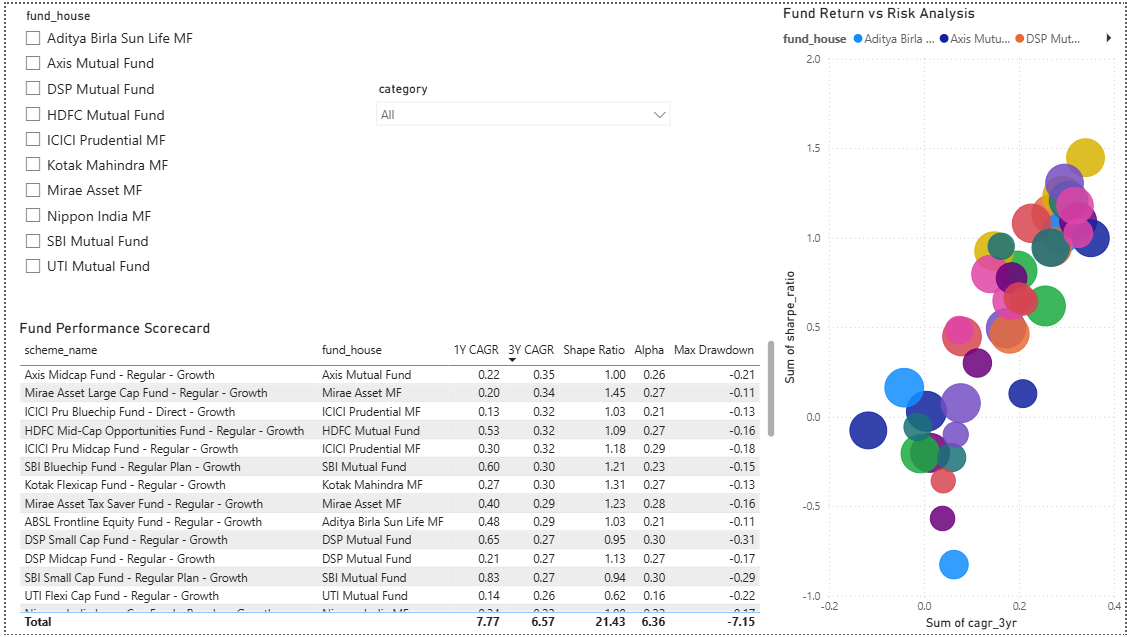

The dashboard page shown, as its layout file describes it:
{"tool":"powerbi","page":{"name":"Page 2","canvas":[1280,720],"ordinal":1},"visuals":[{"type":"scatterChart","title":"Fund Return vs Risk Analysis","fields":{"X":["Sum(fund_scorecard.cagr_3yr)"],"Y":["Sum(fund_scorecard.sharpe_ratio)"],"Size":["Sum(fund_scorecard.expense_ratio_pct)"],"Series":["fund_scorecard.fund_house"],"Category":["fund_scorecard.scheme_name"]},"box":[883.3,0,396.7,720],"z":0},{"type":"tableEx","title":"Fund Performance Scorecard","fields":{"Values":["fund_scorecard.scheme_name","fund_scorecard.fund_house","Sum(fund_scorecard.cagr_1yr)","Sum(fund_scorecard.cagr_3yr)","Sum(fund_scorecard.sharpe_ratio)","Sum(fund_scorecard.alpha)","Sum(fund_scorecard.max_drawdown)"]},"box":[10,360,874,360],"z":1000},{"type":"slicer","fields":{"Values":["clean_fund_master.fund_house"]},"box":[10,0,356.7,360],"z":2000},{"type":"slicer","fields":{"Values":["clean_fund_master.category"]},"box":[413.3,83.3,356.7,96.7],"z":3000}]}

Visuals, with their boxes in screenshot pixels (x1, y1, x2, y2), scaled from the page's 1280x720 canvas onto the 1127x637 screenshot:
"Fund Return vs Risk Analysis" scatterChart: locate(778, 0, 1126, 636)
"Fund Performance Scorecard" tableEx: locate(9, 318, 778, 636)
slicer - clean_fund_master.fund_house: locate(9, 0, 323, 318)
slicer - clean_fund_master.category: locate(364, 74, 678, 159)
